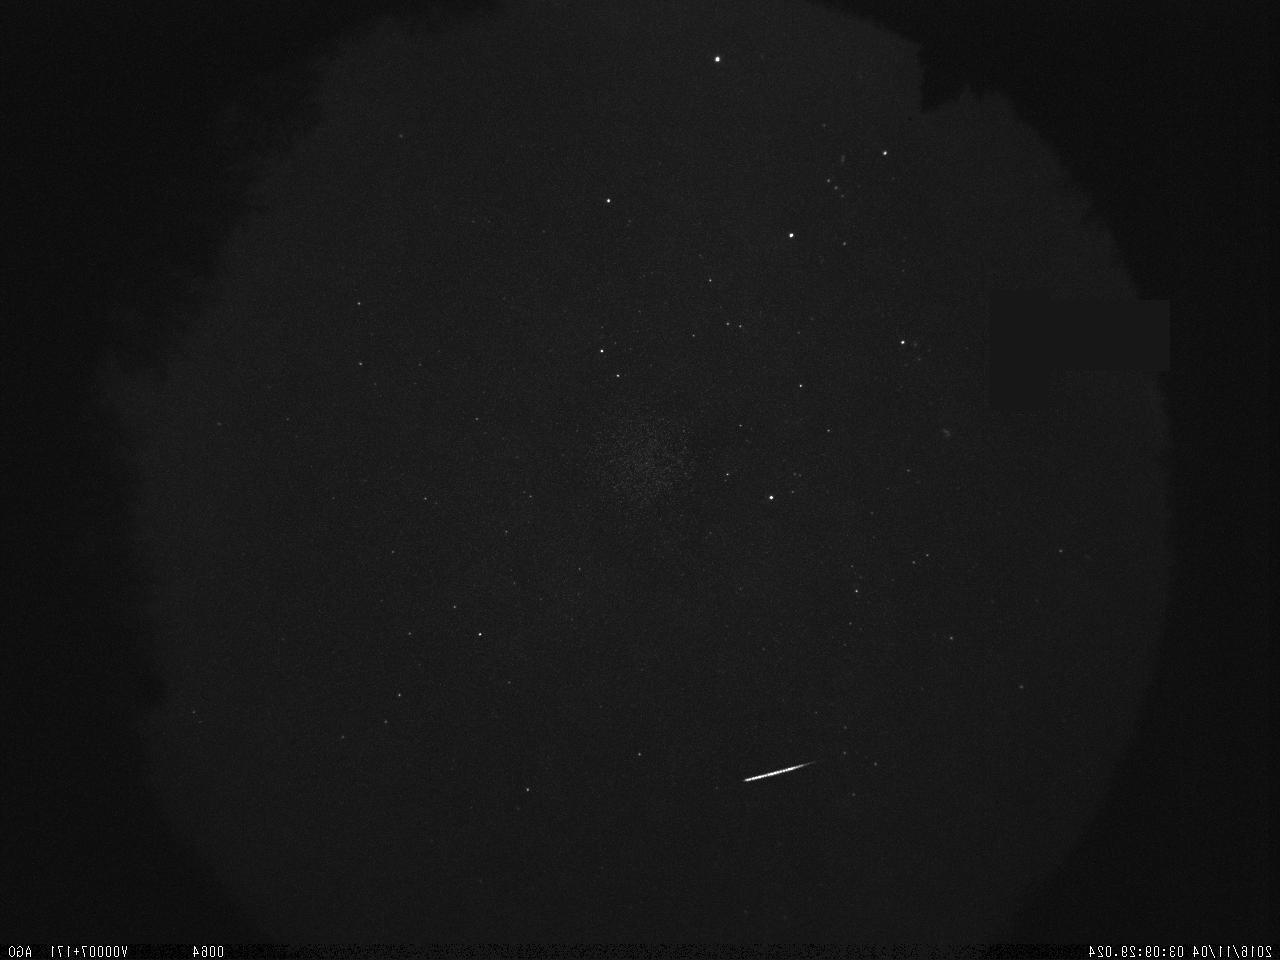meteor: (693, 736, 855, 812)
